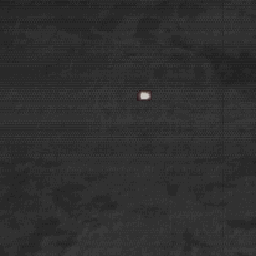Target: (139, 90, 150, 101)
